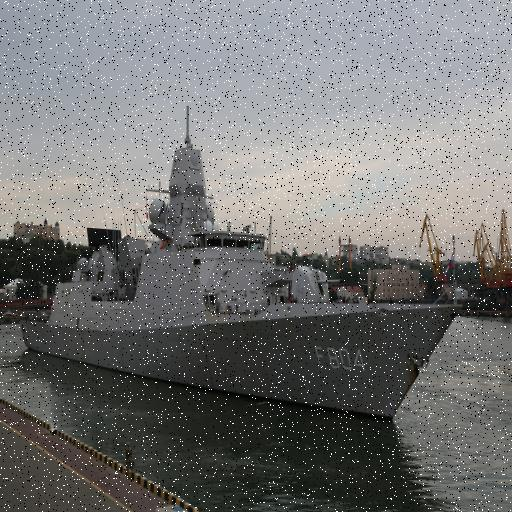Fragata: (21, 71, 467, 424)
